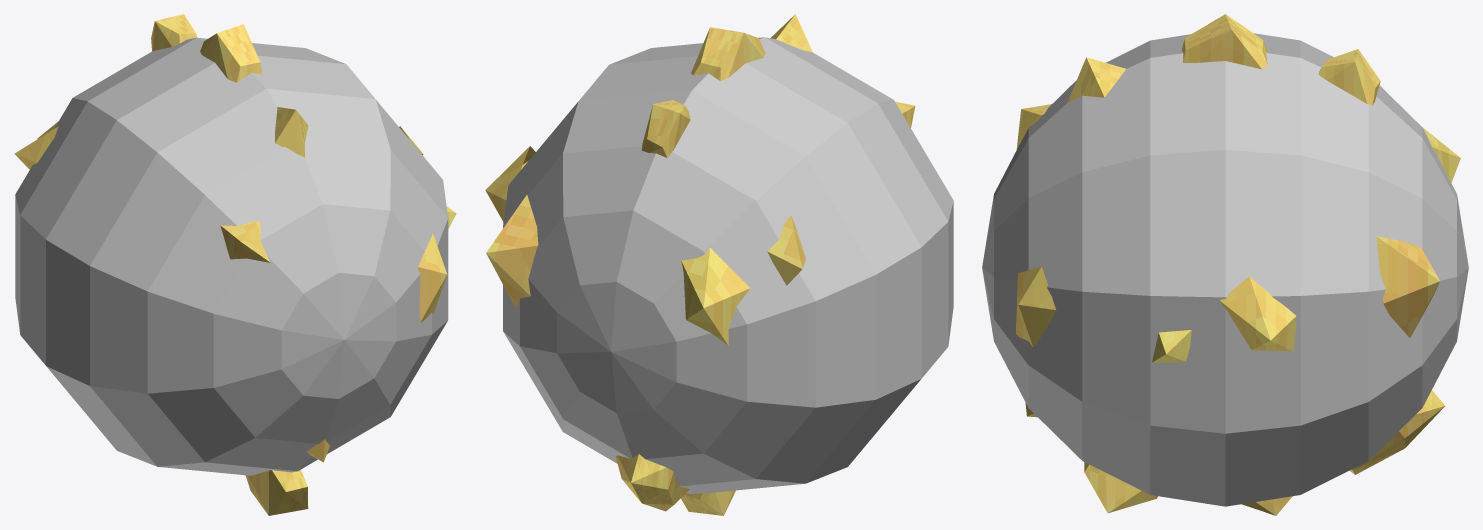
Rendered from BR_Solrock-Shiny01.obj.
The picture shows the model from 3 angles, left to right: view 1: azimuth 30°, elevation 25°; view 2: azimuth 150°, elevation 25°; view 3: azimuth 270°, elevation 25°; orthographic projection. The views are drawn at different scales.
Visible parts, largest first — view 1: solrock; view 2: solrock; view 3: solrock.
Part boxes in pixels (x1,y1,x2,y2): solrock: [14, 14, 456, 515]; solrock: [485, 14, 953, 515]; solrock: [982, 14, 1468, 515].
Bounding box in the file's own units: 5.31 × 5.74 × 5.2.
